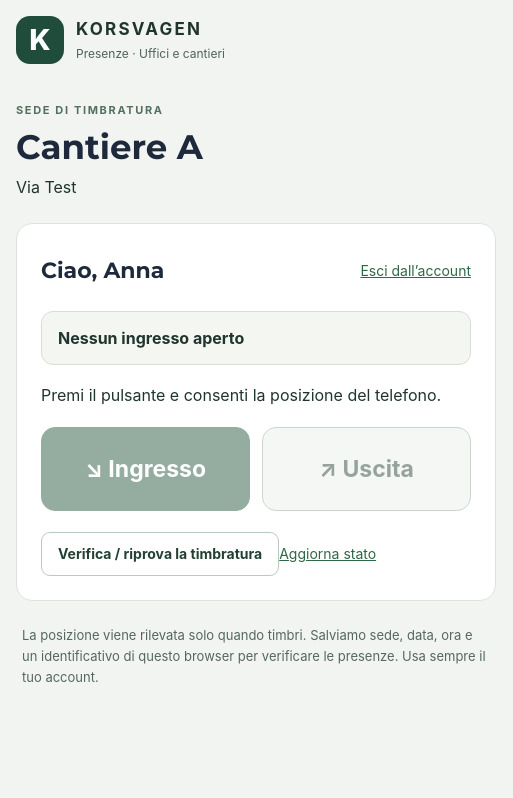
retrying an absent receipt keeps the original request ID
Click the button "Verifica / riprova la timbratura": point(160, 554) [41,532,279,576]
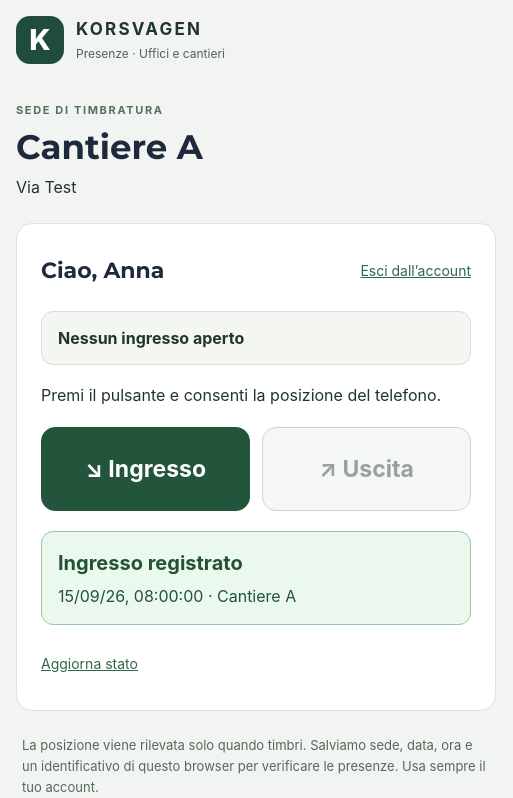
Result: the text "Ingresso registrato" is shown at [58,551,243,575]
